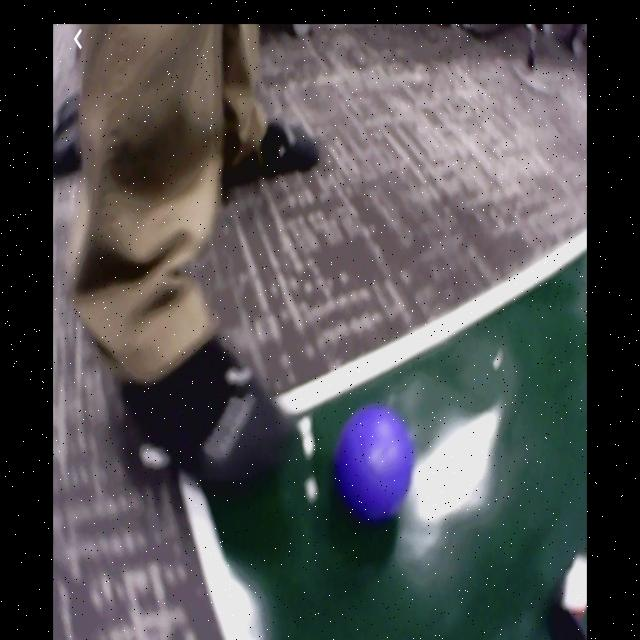ball: (339, 404, 413, 520)
